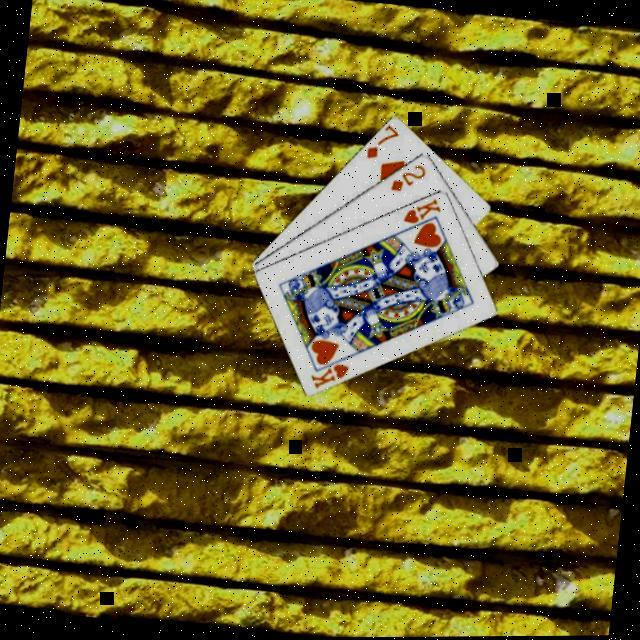2D: (385, 160, 428, 198)
7D: (361, 121, 402, 165)
KH: (398, 193, 444, 230), (305, 358, 352, 393)
